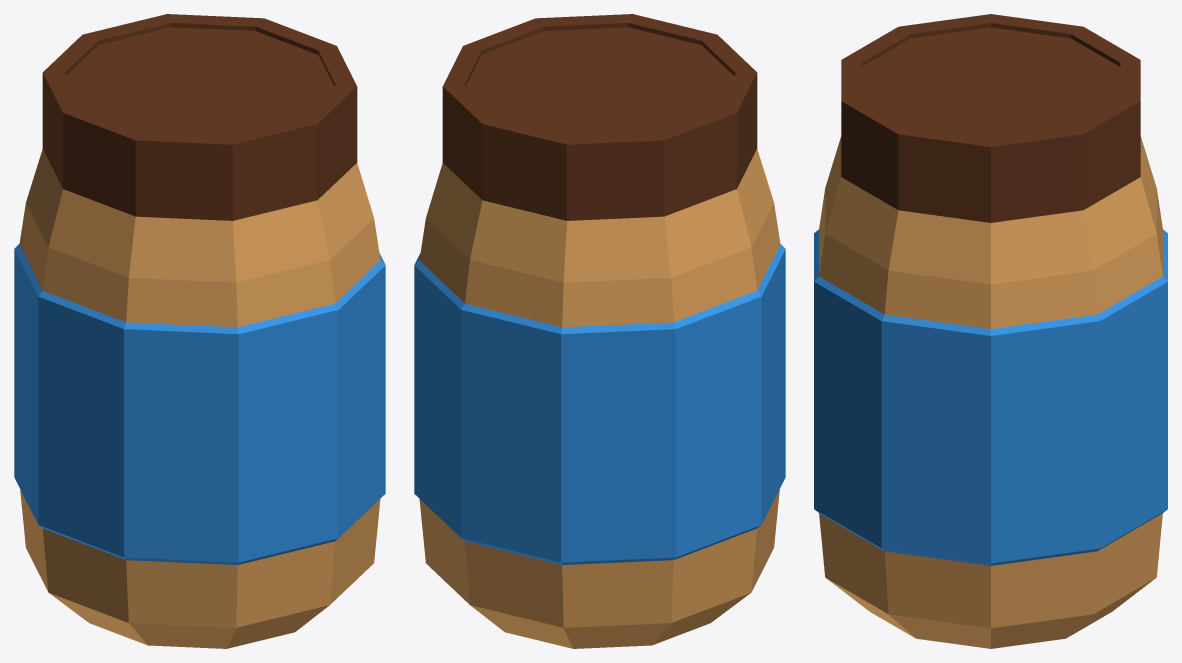
Rendered from PeanutButter_2.obj.
3 renders of one model, left to right at view 1: azimuth 30°, elevation 25°; view 2: azimuth 150°, elevation 25°; view 3: azimuth 270°, elevation 25°, orthographic.
Parts seen in each view (by area): view 1: PeanutButter_2_Blue, PeanutButter_2_LightYellow, PeanutButter_2_Brown; view 2: PeanutButter_2_Blue, PeanutButter_2_LightYellow, PeanutButter_2_Brown; view 3: PeanutButter_2_Blue, PeanutButter_2_LightYellow, PeanutButter_2_Brown.
Part boxes in pixels (x1,y1,x2,y2): PeanutButter_2_Blue: (14, 244, 385, 564); PeanutButter_2_LightYellow: (19, 149, 380, 648); PeanutButter_2_Brown: (42, 14, 357, 220); PeanutButter_2_Blue: (414, 244, 785, 564); PeanutButter_2_LightYellow: (419, 149, 780, 648); PeanutButter_2_Brown: (442, 14, 757, 220); PeanutButter_2_Blue: (814, 229, 1167, 565); PeanutButter_2_LightYellow: (819, 136, 1162, 648); PeanutButter_2_Brown: (841, 14, 1140, 222).
Bounding box in the file's own units: 0.4746 × 0.7243 × 0.4514.
